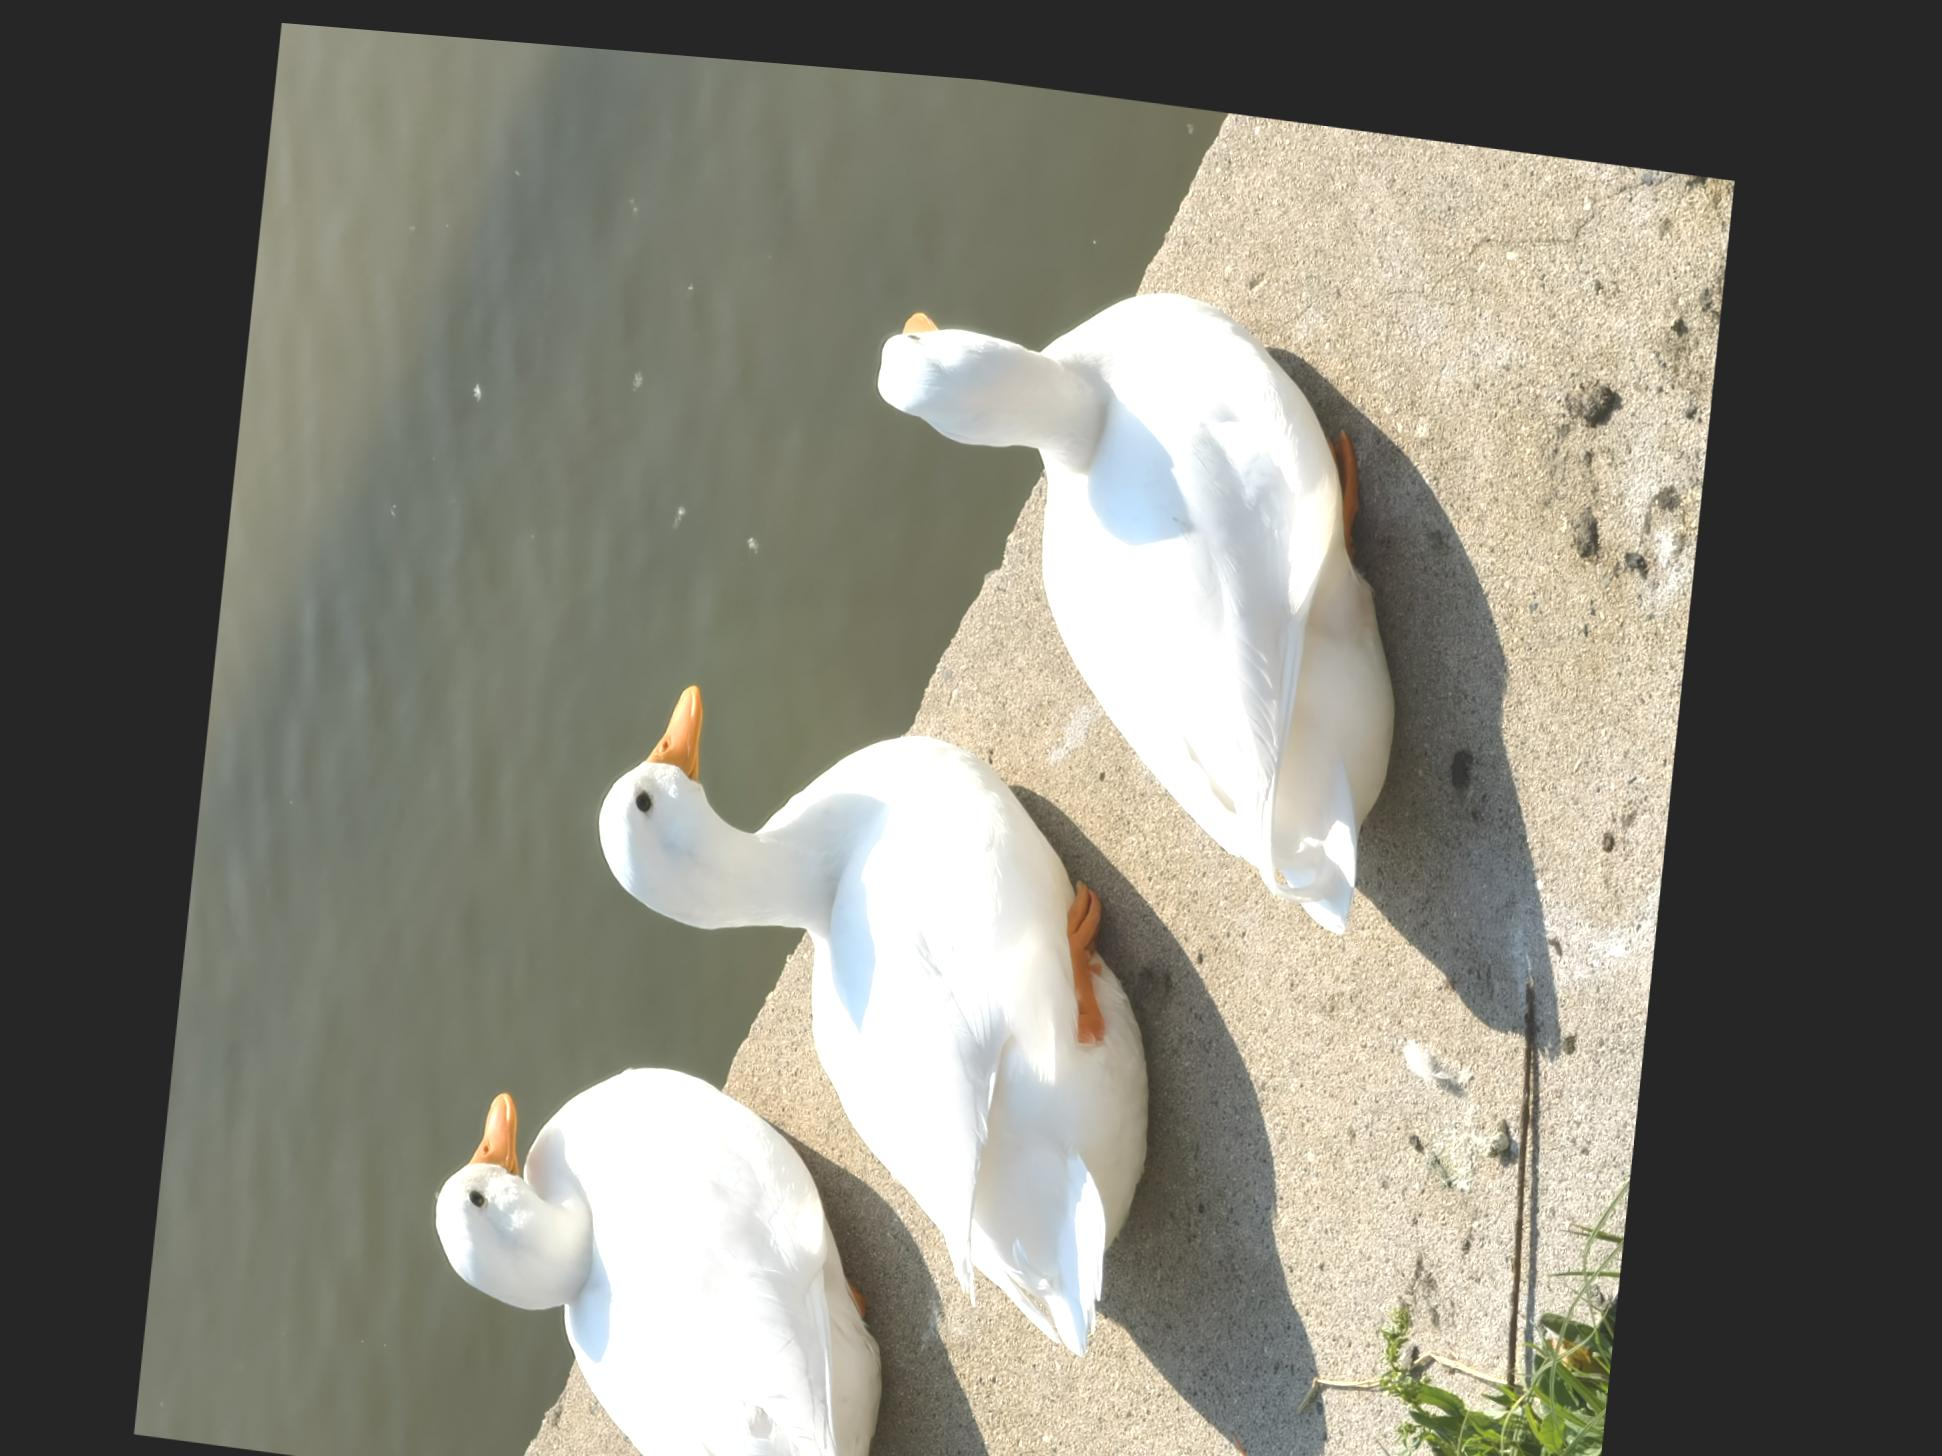duck: (554, 657, 1205, 1337), (824, 223, 1451, 928), (416, 1020, 931, 1456)
